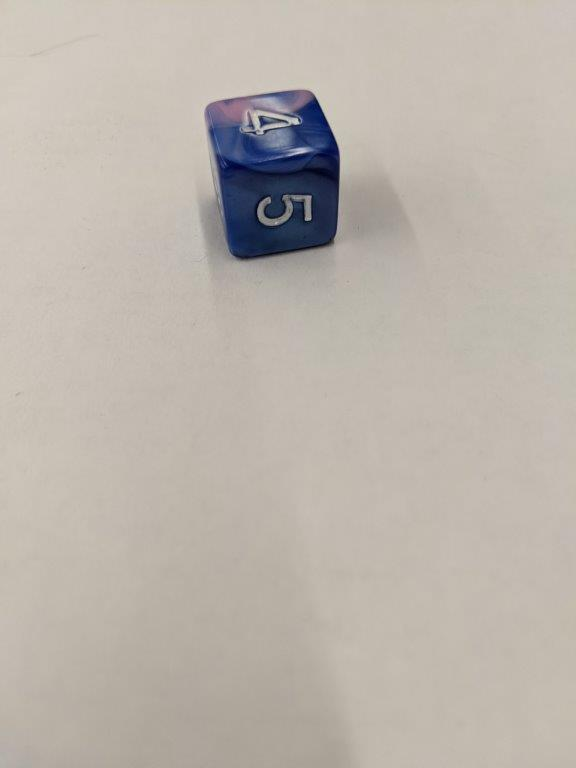d6-4: (204, 87, 343, 261)
